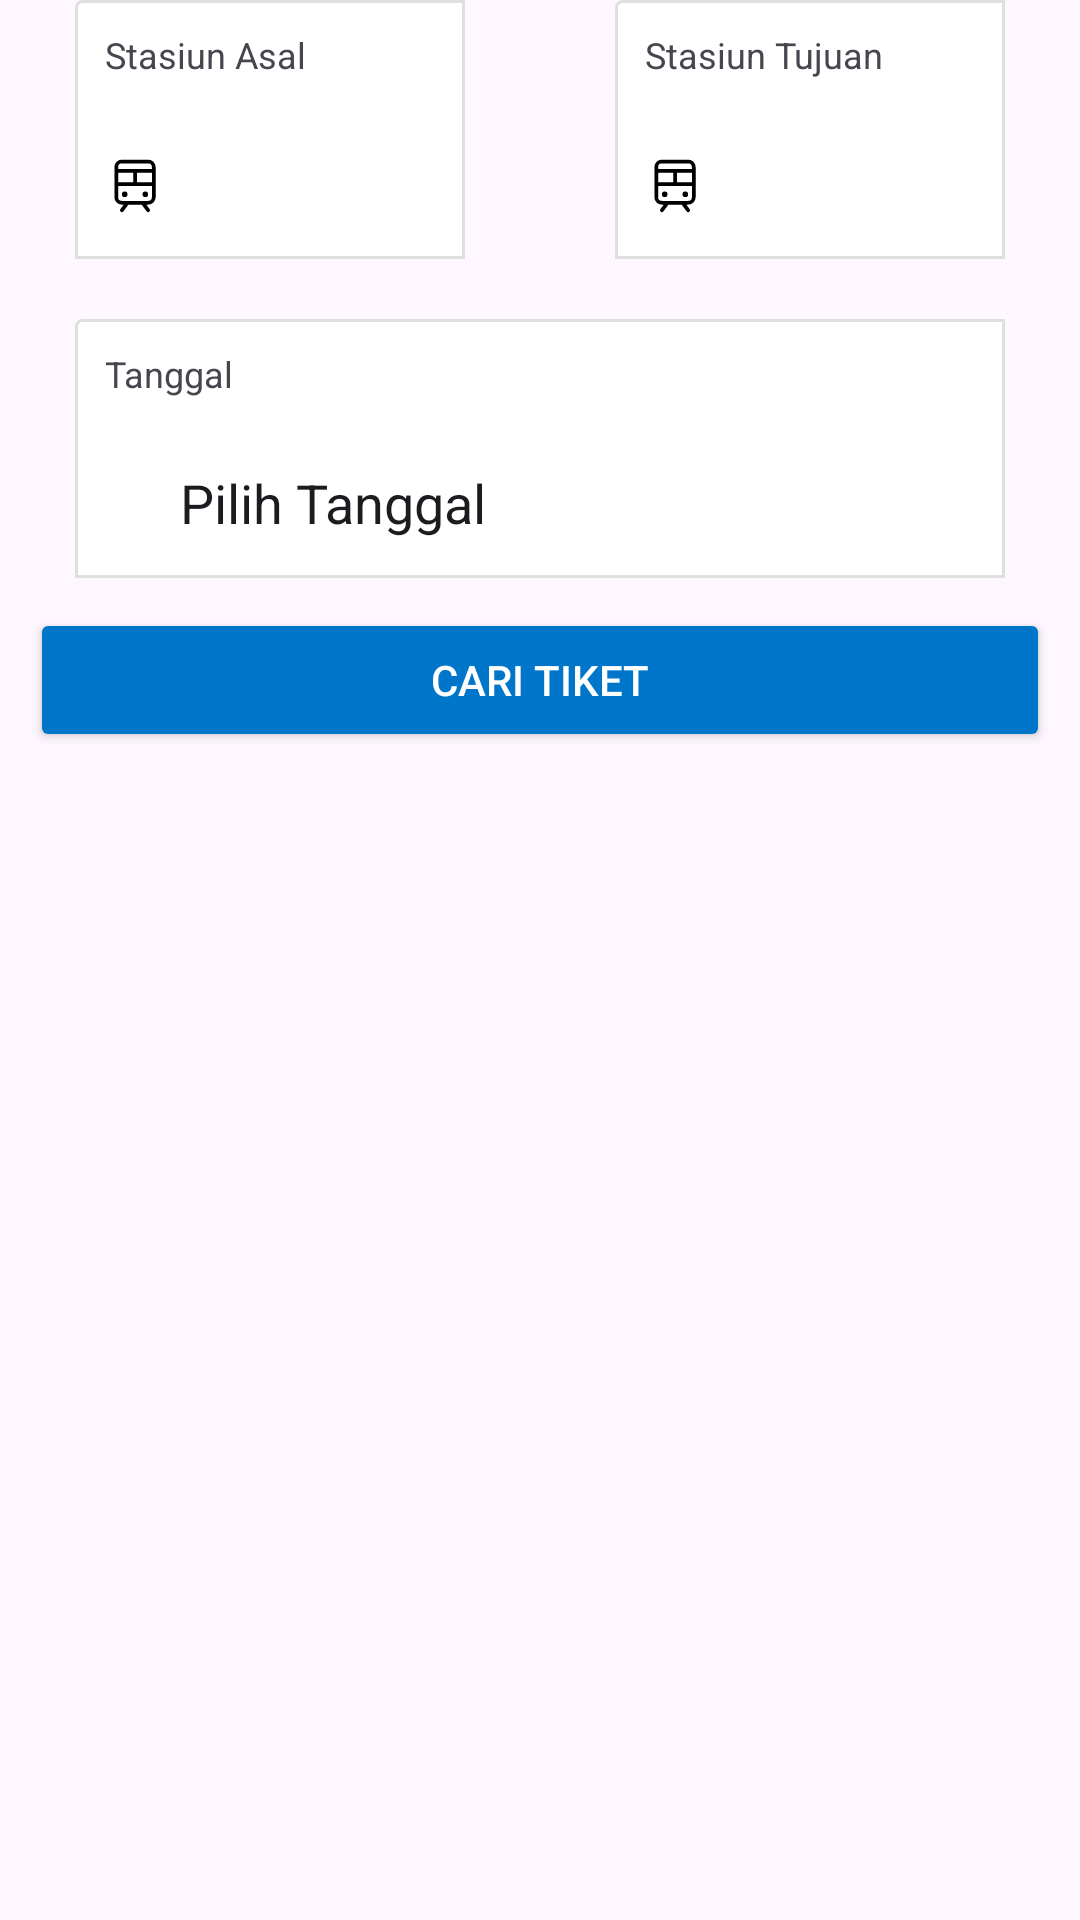

Named icons in this screenshot (1080 x 1920) and their centers, point (x, y):
train: point (135, 186), point (675, 186)
